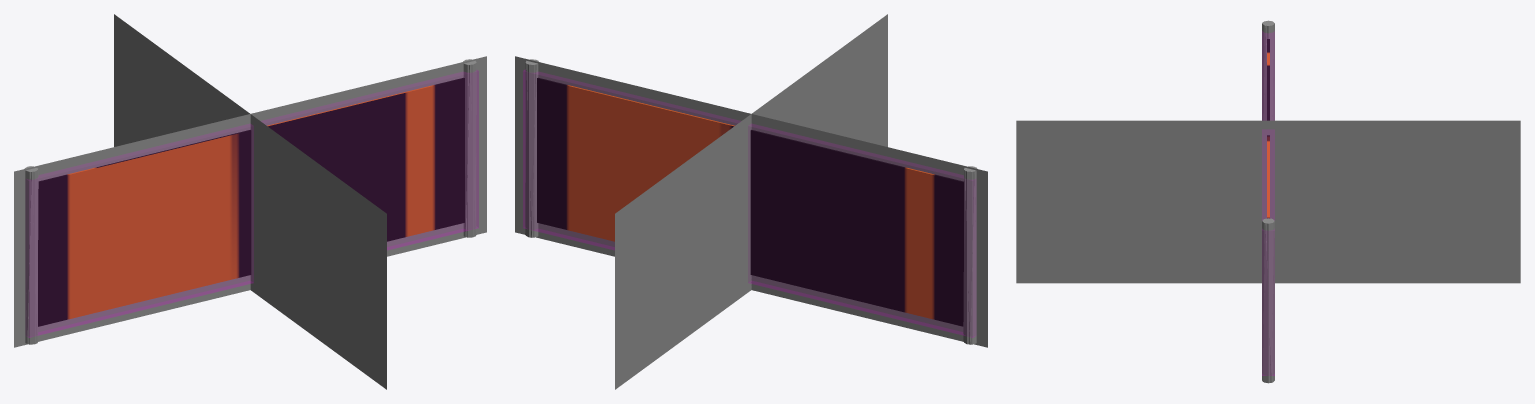
File: ribbon_caution_3m.dae
The picture shows the model from 3 angles, left to right: view 1: azimuth 30°, elevation 25°; view 2: azimuth 150°, elevation 25°; view 3: azimuth 270°, elevation 25°; orthographic projection. The views are drawn at different scales.
Parts seen in each view (by area): view 1: ribbon_caution_3m_a800, Colmesh_panel-1, ribbon_caution_3m_a50, ribbon_caution_3m_a200; view 2: ribbon_caution_3m_a800, Colmesh_panel-1, ribbon_caution_3m_a50, ribbon_caution_3m_a200; view 3: ribbon_caution_3m_a50, Colmesh_panel-1, ribbon_caution_3m_a800, ribbon_caution_3m_a200.
Boxes of the visible parts, box(x1,y1,x2,y2) form: ribbon_caution_3m_a800: box(24, 59, 476, 344); Colmesh_panel-1: box(26, 70, 478, 337); ribbon_caution_3m_a50: box(14, 14, 486, 389); ribbon_caution_3m_a200: box(26, 59, 476, 344); ribbon_caution_3m_a800: box(525, 59, 977, 344); Colmesh_panel-1: box(523, 70, 975, 337); ribbon_caution_3m_a50: box(515, 14, 987, 389); ribbon_caution_3m_a200: box(525, 60, 976, 344); ribbon_caution_3m_a50: box(1016, 120, 1520, 283); Colmesh_panel-1: box(1262, 32, 1274, 375); ribbon_caution_3m_a800: box(1262, 20, 1274, 383); ribbon_caution_3m_a200: box(1262, 21, 1274, 382).
Size of the model in its own units: 3.15 by 3.15 by 1.12.
3 materials, 1 textured.
